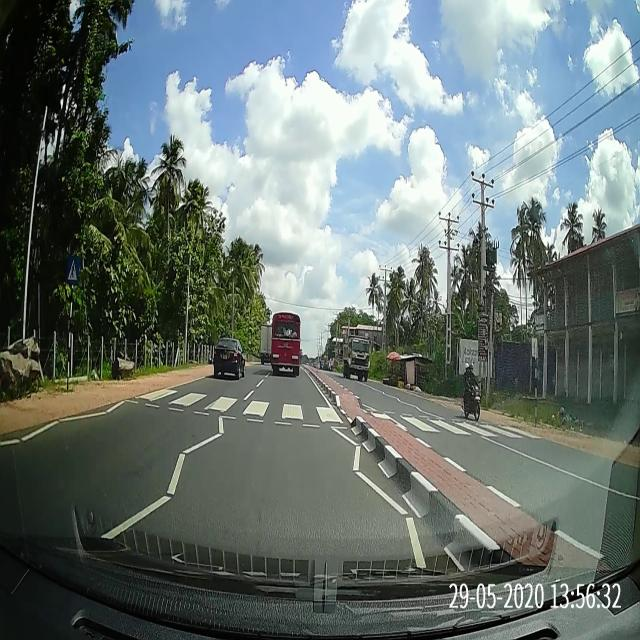Crosswalk: (122, 387, 546, 440)
